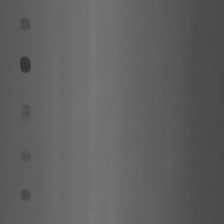oil_spot: (19, 103, 32, 125), (18, 54, 31, 74), (19, 145, 32, 164), (17, 186, 32, 202), (18, 15, 31, 33)
